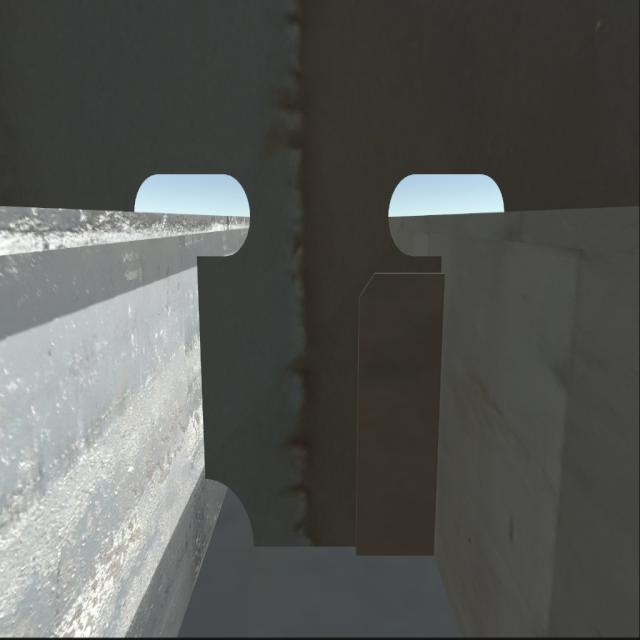fillet_hole: (204, 481, 252, 547)
fillet_yong_jeop_jang: (242, 535, 437, 567)
longi_yong_jeop_jang: (422, 250, 448, 560), (196, 245, 208, 478)
plate_CP03: (349, 271, 442, 559)
